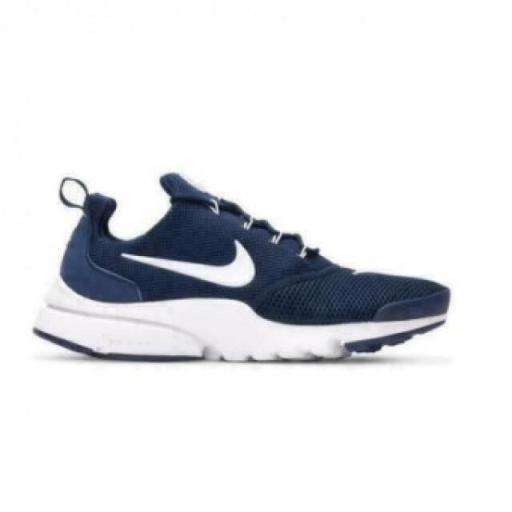Nike: (111, 236, 259, 292)
